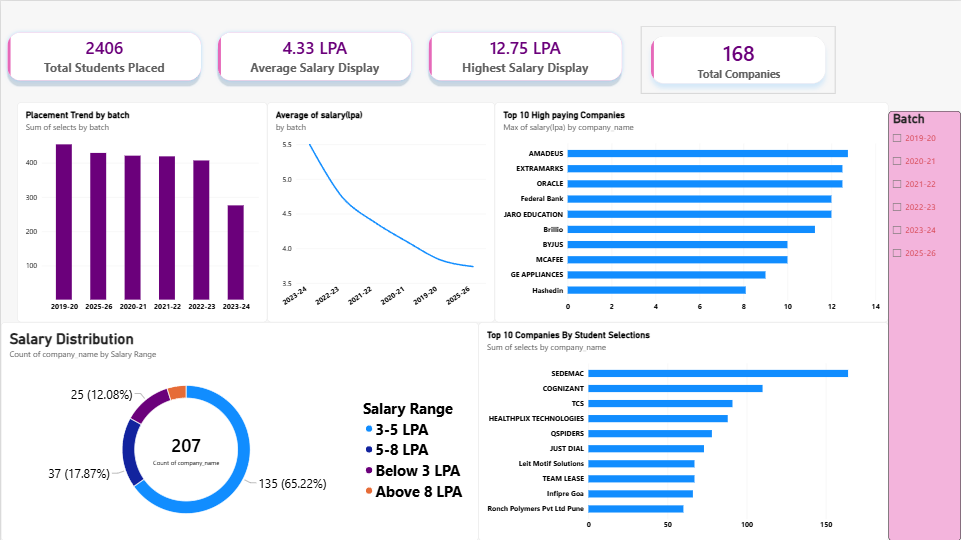

This screenshot's page, from the dashboard's own definition file:
{"tool":"powerbi","page":{"name":"Page 1","canvas":[1920,1080],"ordinal":0},"visuals":[{"type":"cardVisual","fields":{"Data":["placement_analysis placement_data.Total Students Display","placement_analysis placement_data.Average Salary Display","placement_analysis placement_data.Highest Salary Display"]},"box":[0,50,1255,122.5],"z":0},{"type":"cardVisual","fields":{"Data":["placement_analysis placement_data.Total Companies"]},"box":[1280,50,389,135.8],"z":1000},{"type":"clusteredColumnChart","title":"Placement Trend by batch","fields":{"Category":["placement_analysis placement_data.batch"],"Y":["Sum(placement_analysis placement_data.selects)"]},"box":[32.5,202.5,500,440],"z":2000},{"type":"lineChart","fields":{"Category":["placement_analysis placement_data.batch"],"Y":["Avg(placement_analysis placement_data.salary(lpa))"]},"box":[532.5,202.5,455,440],"z":3000},{"type":"clusteredBarChart","title":"Top 10 Companies By Student Selections","fields":{"Category":["placement_analysis placement_data.company_name"],"Y":["Sum(placement_analysis placement_data.selects)"]},"box":[955,642.5,820,437.5],"z":4000},{"type":"clusteredBarChart","title":"Top 10 High paying Companies","fields":{"Category":["placement_analysis placement_data.company_name"],"Y":["Max(placement_analysis placement_data.salary(lpa))"]},"box":[987.5,202.5,787.5,440],"z":5000},{"type":"donutChart","title":"Salary Distribution","fields":{"Category":["placement_analysis placement_data.Salary Range"],"Y":["CountNonNull(placement_analysis placement_data.company_name)"]},"box":[0,642.5,955,437.5],"z":6000},{"type":"slicer","fields":{"Values":["placement_analysis placement_data.batch"]},"box":[1775,220,145,860],"z":7000}]}

Visuals, with their boxes in screenshot pixels (x1, y1, x2, y2), scaled from the page's 1920x1080 canvas onto the 961x540 screenshot:
cardVisual - placement_analysis placement_data.Total Students Display x placement_analysis placement_data.Average Salary Display: box=[0, 25, 628, 86]
cardVisual - placement_analysis placement_data.Total Companies: box=[641, 25, 835, 93]
"Placement Trend by batch" clusteredColumnChart: box=[16, 101, 267, 321]
lineChart - placement_analysis placement_data.batch x Avg(placement_analysis placement_data.salary(lpa)): box=[267, 101, 494, 321]
"Top 10 Companies By Student Selections" clusteredBarChart: box=[478, 321, 888, 539]
"Top 10 High paying Companies" clusteredBarChart: box=[494, 101, 888, 321]
"Salary Distribution" donutChart: box=[0, 321, 478, 539]
slicer - placement_analysis placement_data.batch: box=[888, 110, 960, 539]
